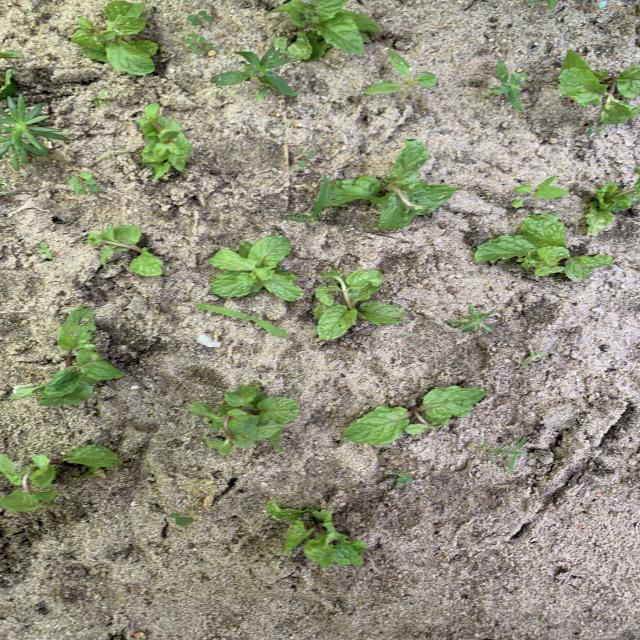crop: (328, 140, 457, 229), (13, 308, 124, 405), (475, 215, 612, 278), (344, 388, 488, 443), (1, 446, 120, 511), (190, 385, 299, 455), (270, 0, 379, 61), (267, 501, 365, 567), (315, 270, 403, 339), (73, 2, 158, 73), (209, 236, 302, 300), (560, 51, 639, 124), (138, 104, 191, 179), (583, 166, 639, 234), (88, 226, 162, 275), (1, 70, 16, 99)
weed: (1, 97, 67, 169), (213, 48, 296, 99), (366, 51, 435, 107), (196, 305, 289, 335), (285, 175, 329, 222), (511, 176, 569, 210), (490, 62, 527, 111), (170, 495, 213, 526), (446, 304, 494, 331), (493, 437, 527, 473), (515, 341, 543, 366), (69, 172, 98, 193), (185, 33, 214, 54), (295, 146, 313, 167), (188, 11, 212, 25), (581, 120, 599, 135), (93, 90, 108, 107), (396, 472, 411, 487), (38, 242, 51, 258), (1, 180, 10, 193)
